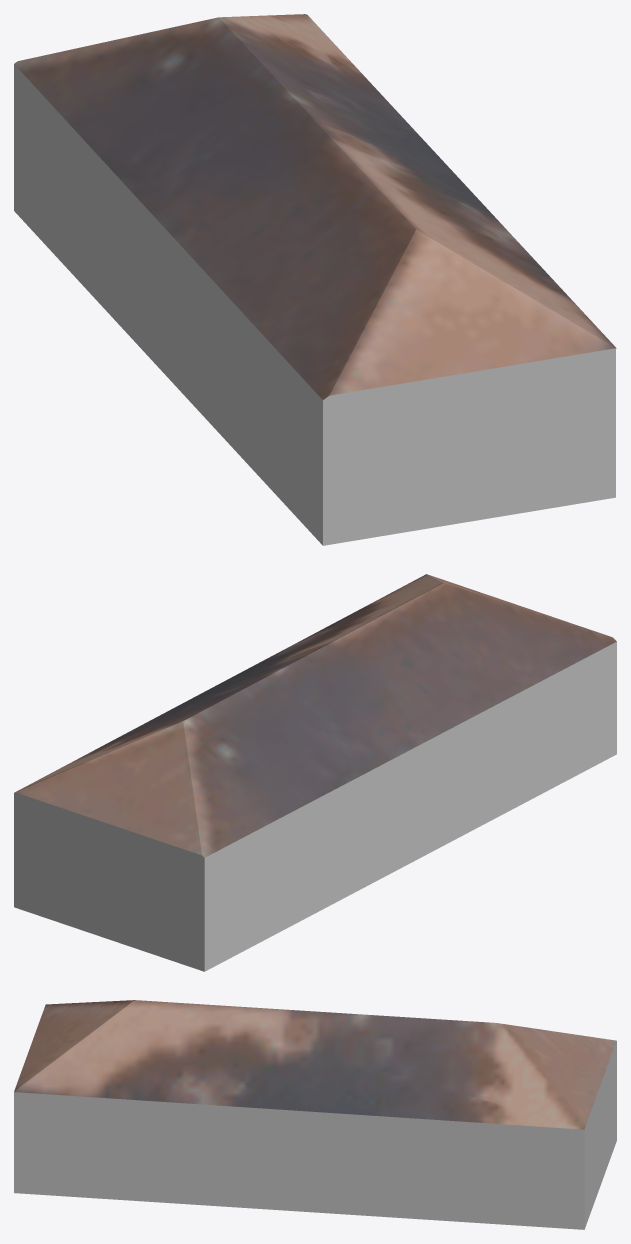
Rendered from DEBW_0010007Tx9W.gltf.
3 renders of one model, top to bottom at view 1: azimuth 30°, elevation 25°; view 2: azimuth 150°, elevation 25°; view 3: azimuth 270°, elevation 25°, orthographic. The views are drawn at different scales.
Parts seen in each view (by area): view 1: Z_UP; view 2: Z_UP; view 3: Z_UP.
Part boxes in pixels (x1,y1,x2,y2): Z_UP: [14, 14, 616, 545]; Z_UP: [14, 574, 616, 971]; Z_UP: [14, 1000, 616, 1229].
Bounding box in the file's own units: 10.6 × 6.11 × 21.4.
Materials: 2 (1 with a texture image).
